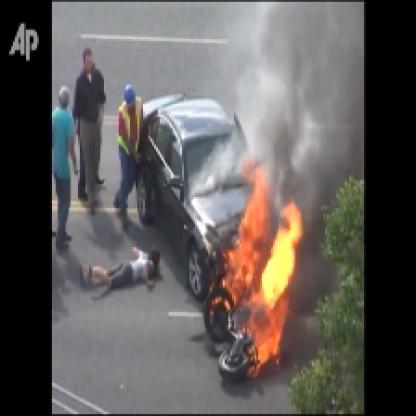Fire: (204, 150, 305, 382)
Smoke: (247, 2, 362, 173)
